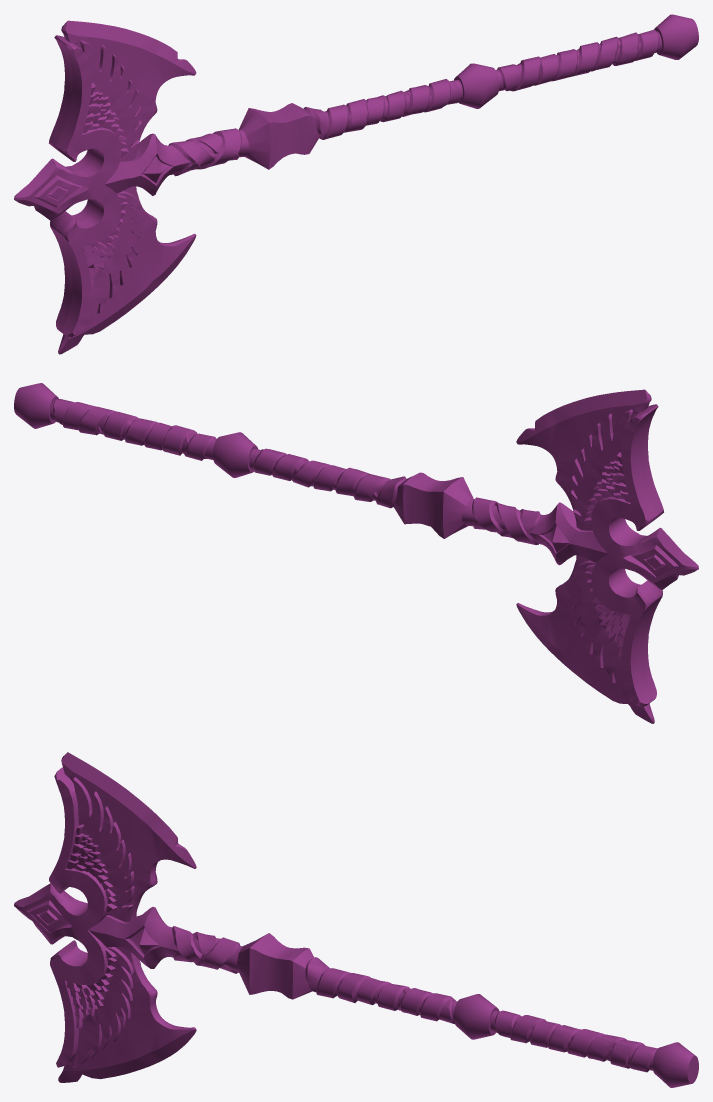
File: SM_Rune_Two_Handed_Poleaxe_2.obj
3 views of the same model, one above another, from view 1: azimuth 30°, elevation 25°; view 2: azimuth 150°, elevation 25°; view 3: azimuth 330°, elevation 25° (orthographic).
Parts seen in each view (by area): view 1: SM_Rune_Two_Handed_Poleaxe_2; view 2: SM_Rune_Two_Handed_Poleaxe_2; view 3: SM_Rune_Two_Handed_Poleaxe_2.
Boxes of the visible parts, x1,y1,x2,y2 form: SM_Rune_Two_Handed_Poleaxe_2: [14, 14, 698, 354]; SM_Rune_Two_Handed_Poleaxe_2: [14, 383, 698, 723]; SM_Rune_Two_Handed_Poleaxe_2: [14, 752, 698, 1087].
Size of the model in its own units: 1158 by 541 by 63.09.
